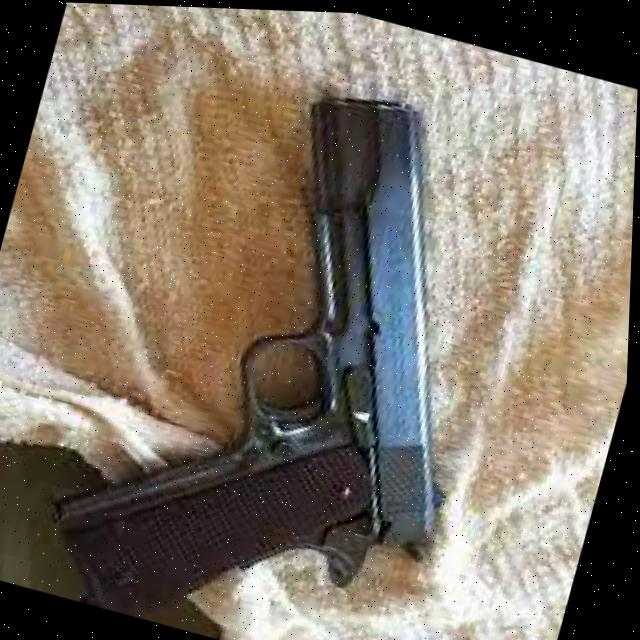gun: (48, 95, 434, 616)
